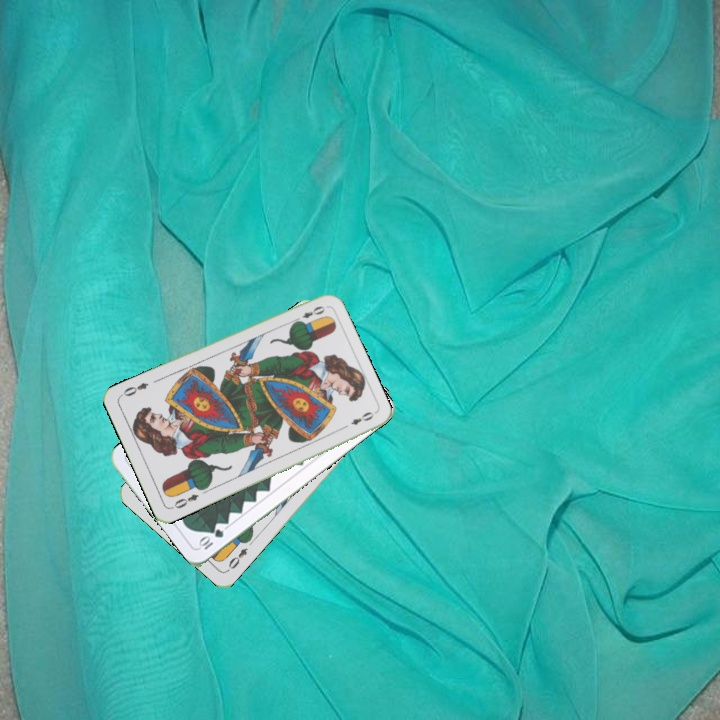EO: (289, 302, 328, 326), (223, 543, 250, 574), (167, 490, 201, 512)
G10: (195, 525, 226, 552)
